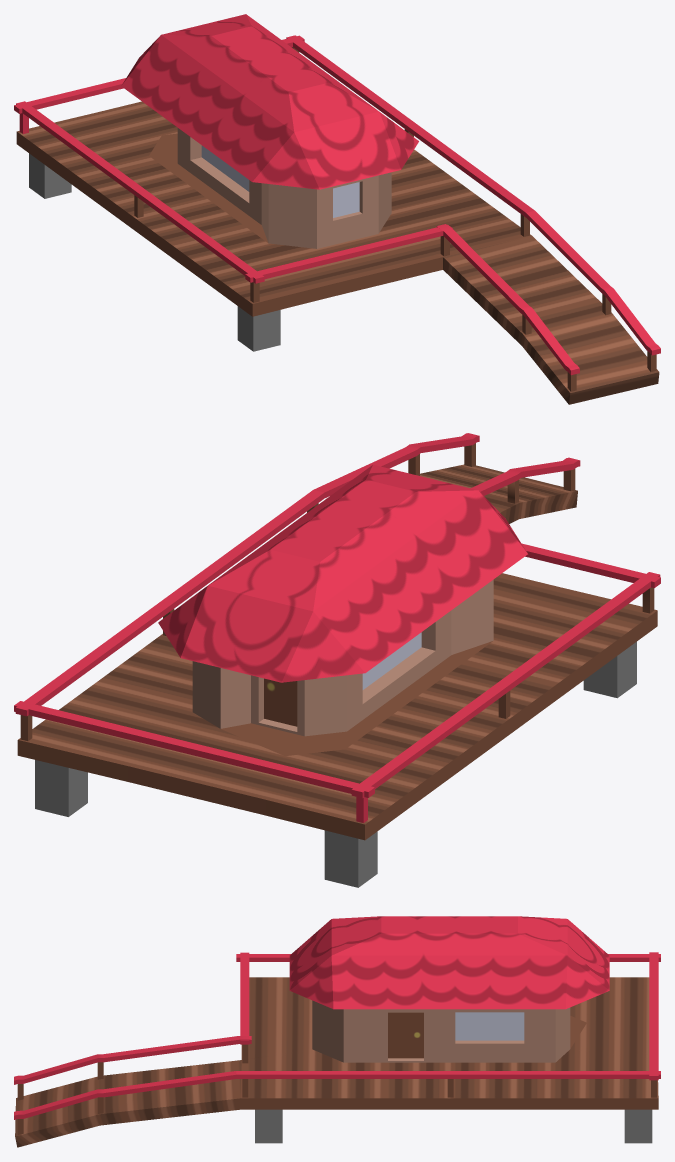
The model's file is Beachbungalow.fbx.
3 views of the same model, one above another, from view 1: azimuth 30°, elevation 25°; view 2: azimuth 150°, elevation 25°; view 3: azimuth 270°, elevation 25° (orthographic). The views are drawn at different scales.
Parts seen in each view (by area): view 1: pCube43; view 2: pCube43; view 3: pCube43.
Boxes of the visible parts, x1=… form: pCube43: x1=14, y1=14, x2=660, y2=404; pCube43: x1=14, y1=433, x2=660, y2=887; pCube43: x1=14, y1=916, x2=660, y2=1147.
Size of the model in its own units: 21.08 by 12.77 by 46.67.
